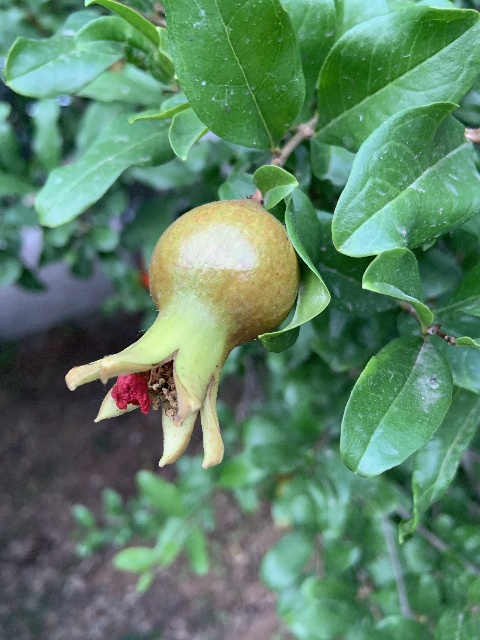early-fruit: (66, 197, 297, 471)
